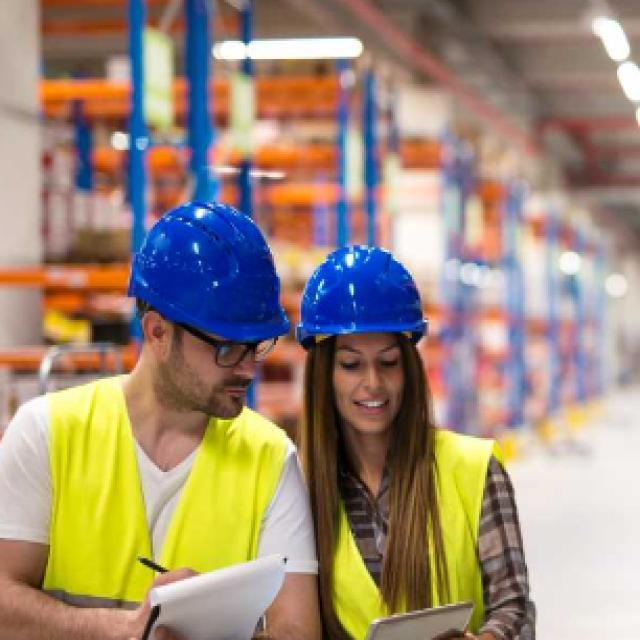helmet: (122, 195, 294, 419), (291, 239, 433, 426)
vest: (33, 367, 292, 640), (282, 411, 504, 640)
